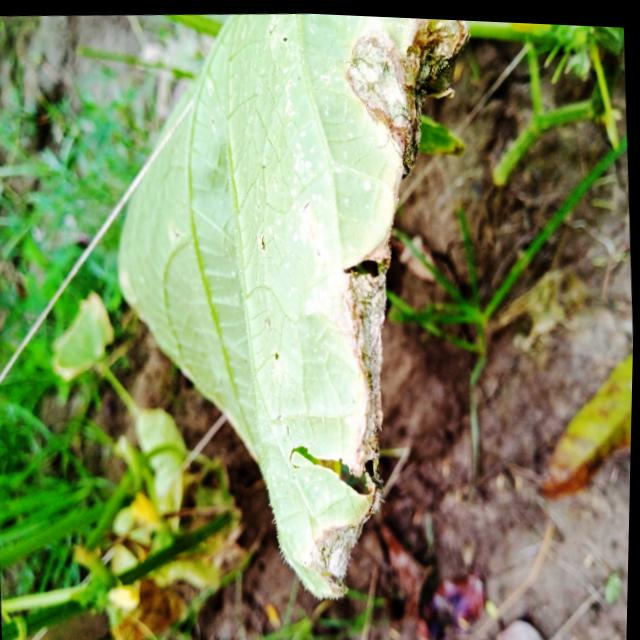Gummy-Stem-Blight: (297, 233, 391, 597), (345, 18, 472, 215)
